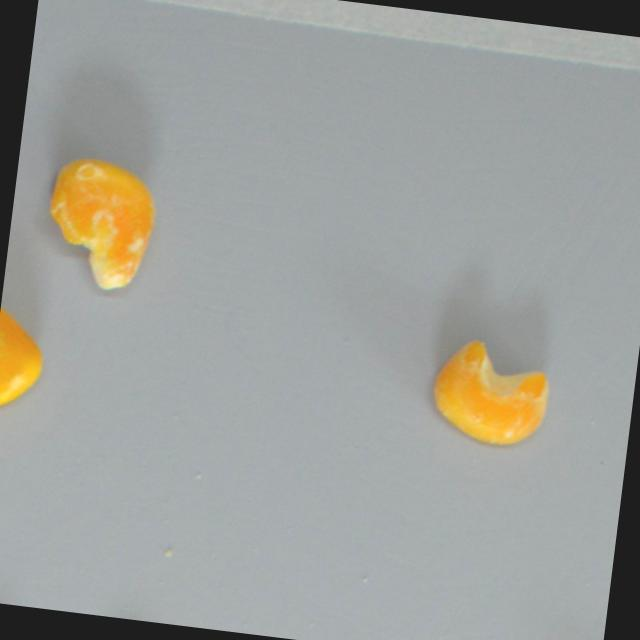no_canjicado: (0, 302, 50, 419)
pelicula: (38, 150, 161, 294), (426, 332, 554, 450)
